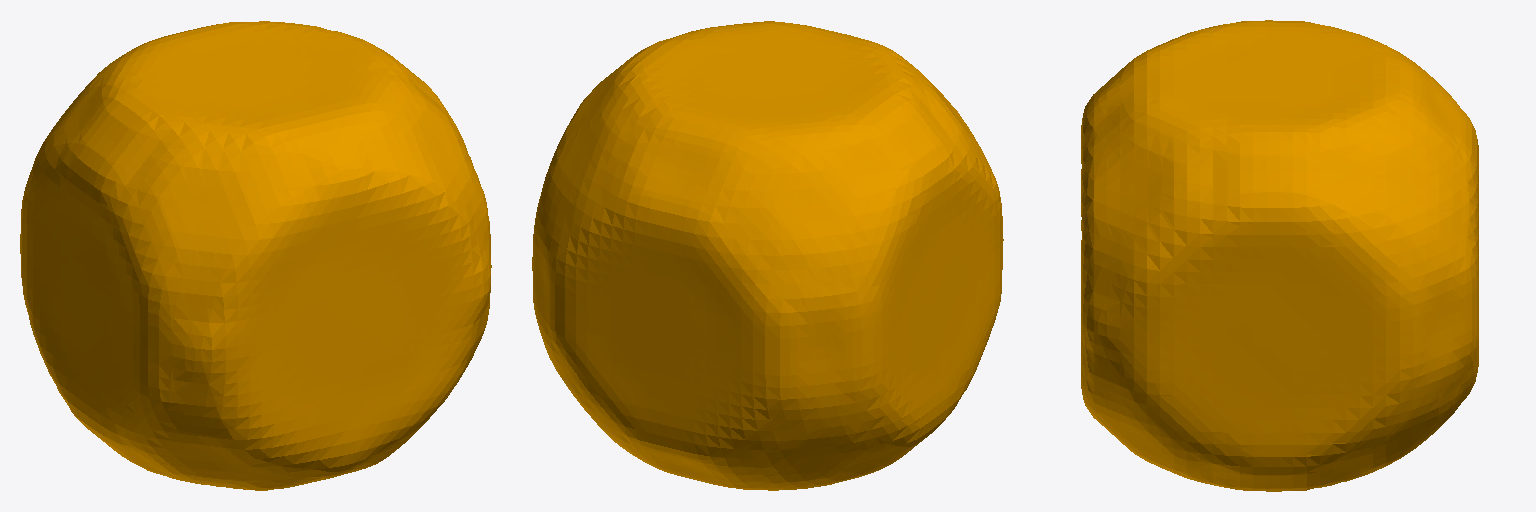
The robot description file, URDF, robot "F01_0":
<?xml version="1.0"?>
<robot name="F01_0">
  <link name="base_link">
    <visual>
      <geometry>
        <mesh filename="../../../../meshes/egad/train/F01_0.obj" />
      </geometry>
    </visual>
  </link>
</robot>

--- What the picture shows (computed from the rendered views, not written in the file) ---
Views: 3 orthographic renders of the robot side by side, from view 1: azimuth 30°, elevation 25°; view 2: azimuth 150°, elevation 25°; view 3: azimuth 270°, elevation 25°.
Robot: F01_0 — 1 links, 0 joints (none); root link base_link; default pose: every joint at zero.
Links seen in each view (by area): view 1: base_link; view 2: base_link; view 3: base_link.
Boxes of the visible links, x1=… form: base_link: x1=20, y1=21, x2=491, y2=490; base_link: x1=532, y1=21, x2=1003, y2=490; base_link: x1=1081, y1=20, x2=1478, y2=491.
Bounding box of the posed robot: 0.06 × 0.06 × 0.06 m (x, y, z).
Meshes: 1 distinct files referenced, 1 mesh visuals loaded (1 OBJ).